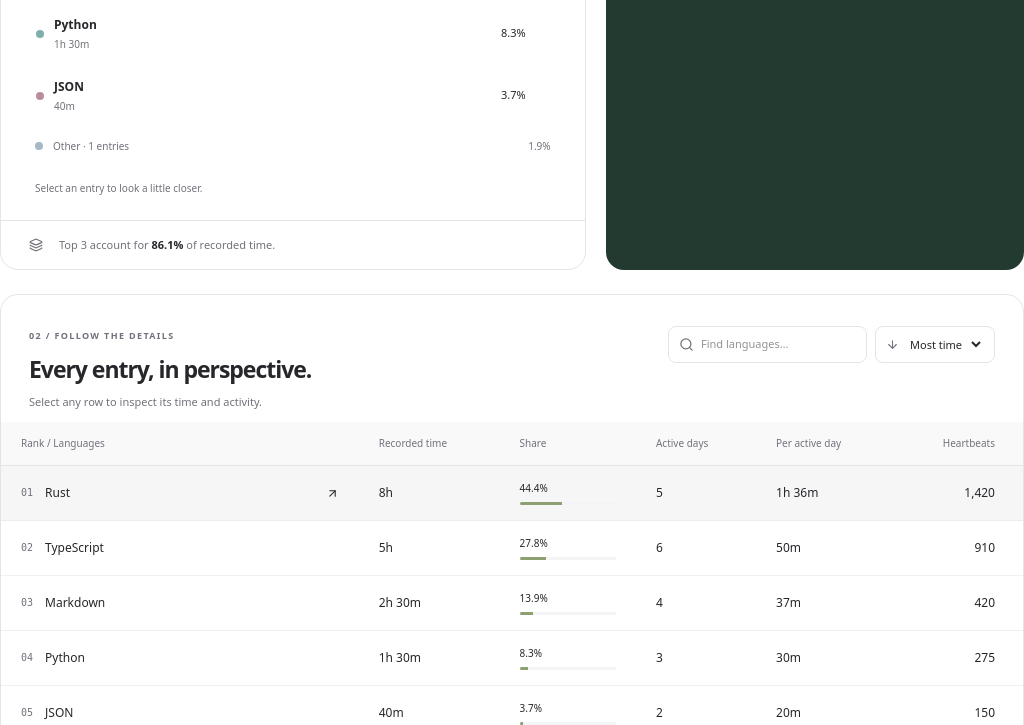
Test: Insights › searches and sorts without changing the whole-period share
The width and height of the screenshot is (1024, 725).
(page scrolled)
Type "rust" into the field named "Search entries" at (778, 345), box [701,336,856,353]
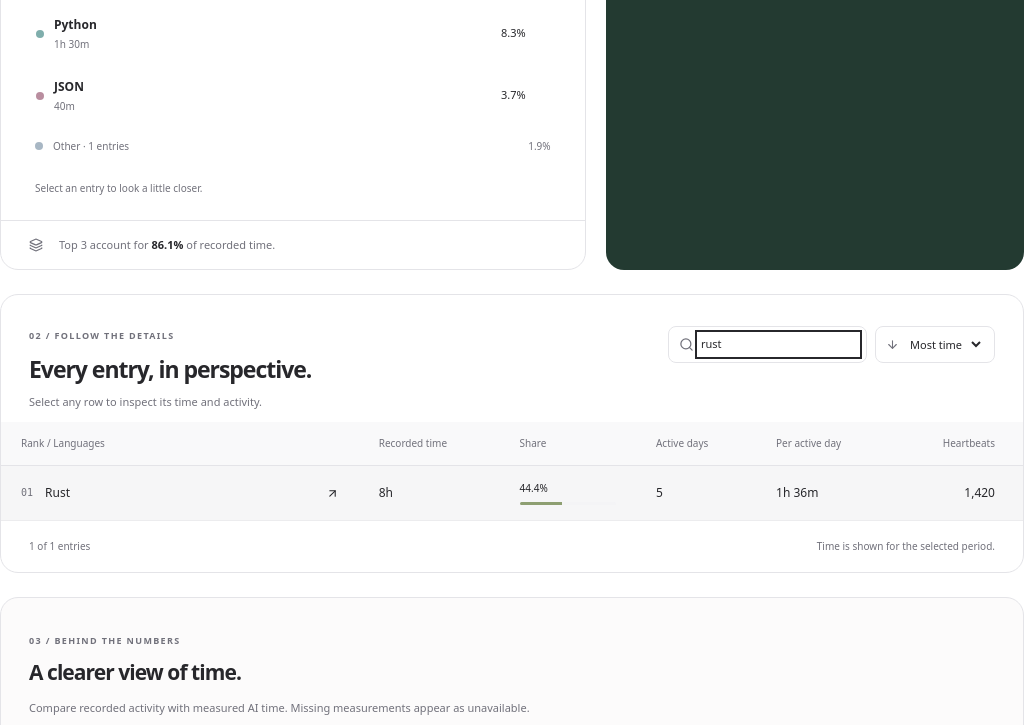
Expected: the text "44.4%" is shown, [520,481,548,495]
Expected: the number of rows is 2, [1,422,1023,466]; [1,466,1023,521]
Clear the field named "Search entries" at (778, 345), box [701,336,856,353]
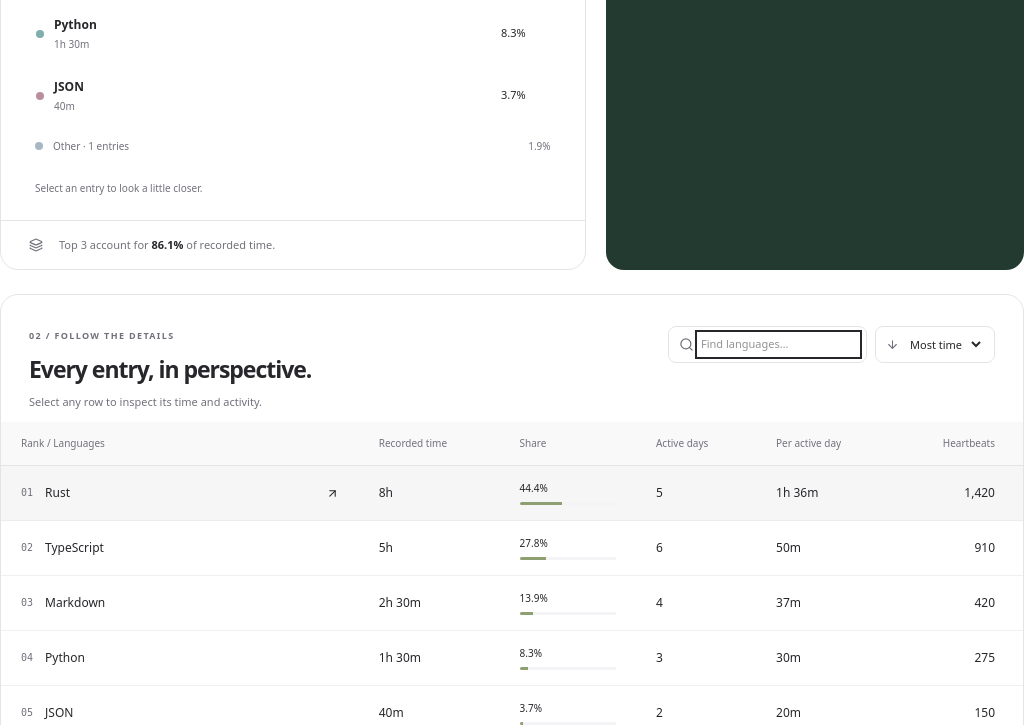
Select "Active days" in the dropdown named "Sort entries" at (945, 345), box [906,336,984,353]
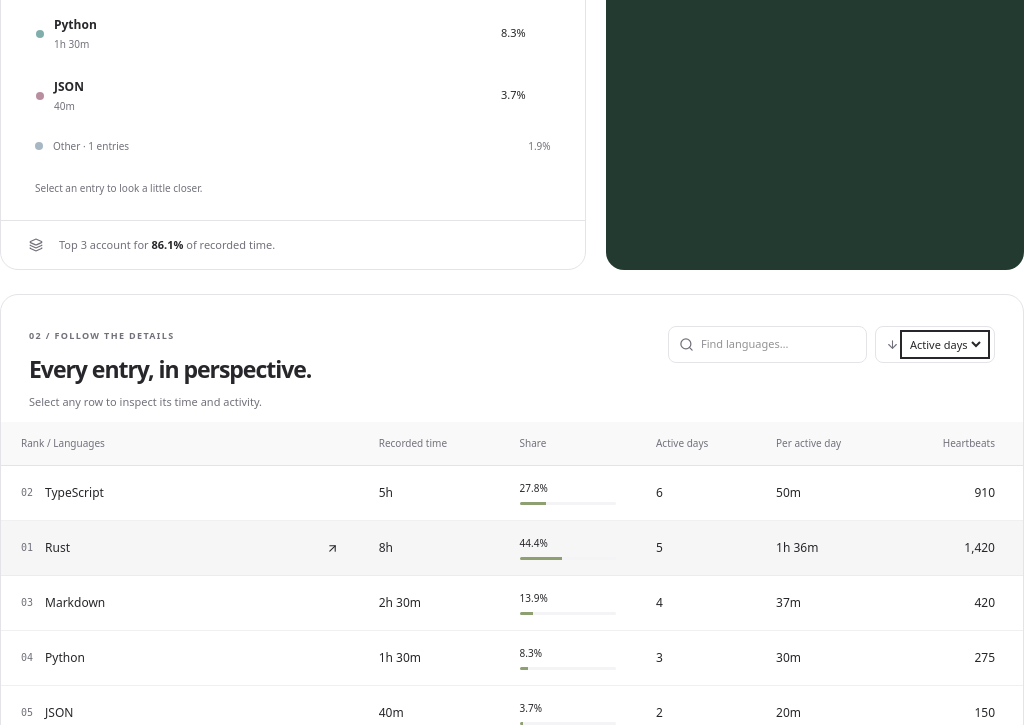
Expected: the row "02 TypeScript 5h 27.8% 6 50m 910" is shown, [1,466,1023,521]
Type "missing" into the field named "Search entries" at (778, 345), box [701,336,856,353]
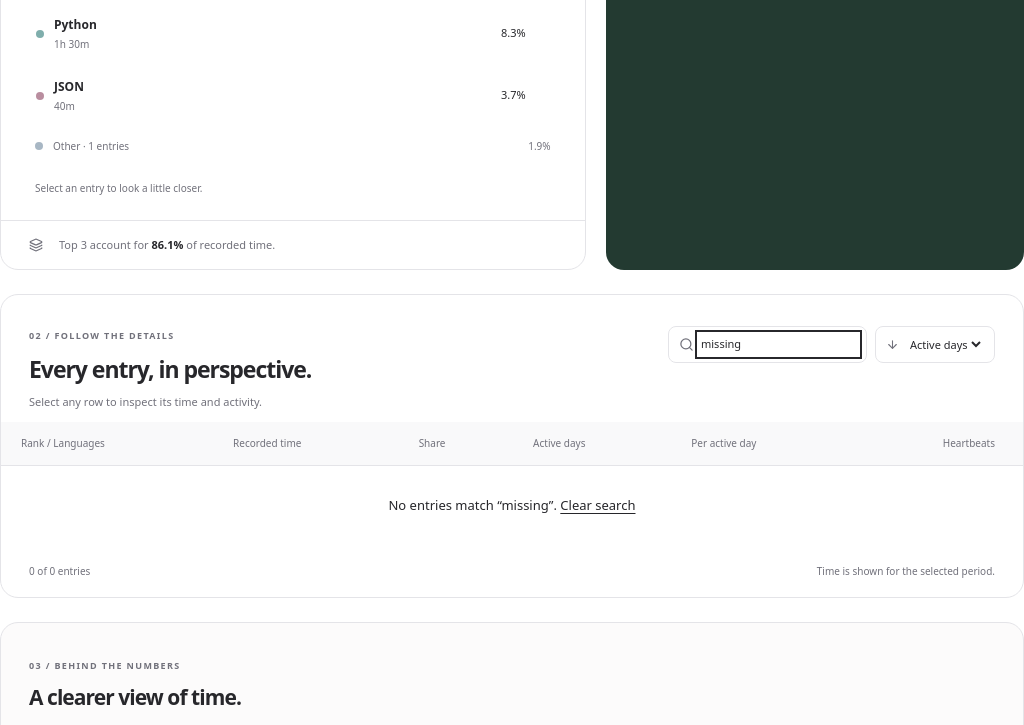
Click the button "Clear search" at (598, 506), box [560,496,636,516]
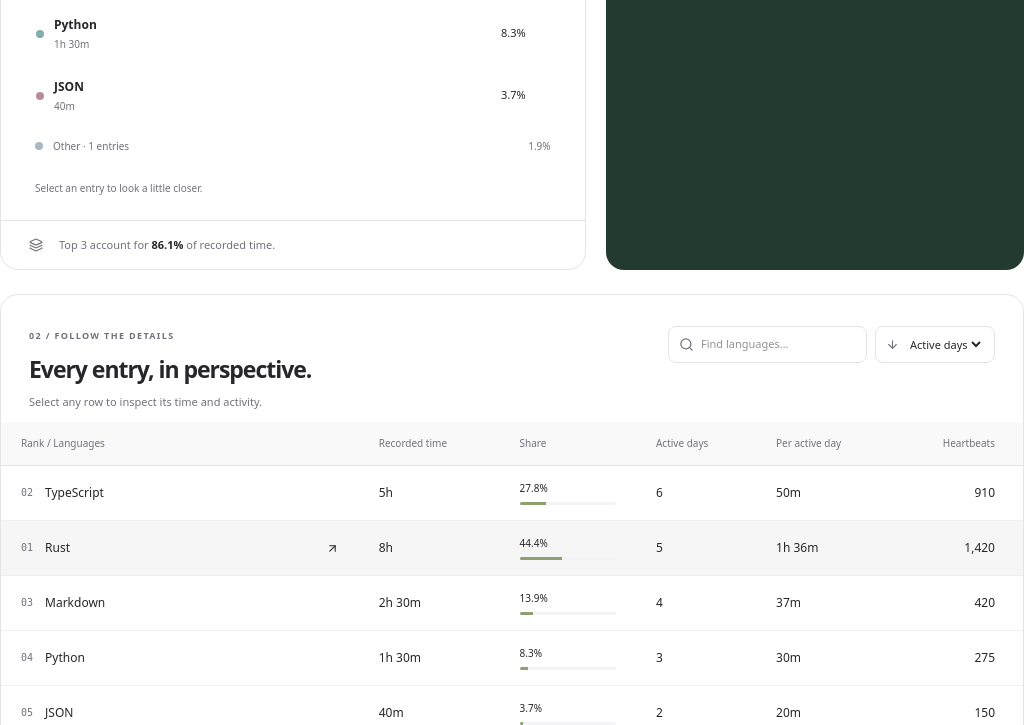
Expected: the number of rows is 7
